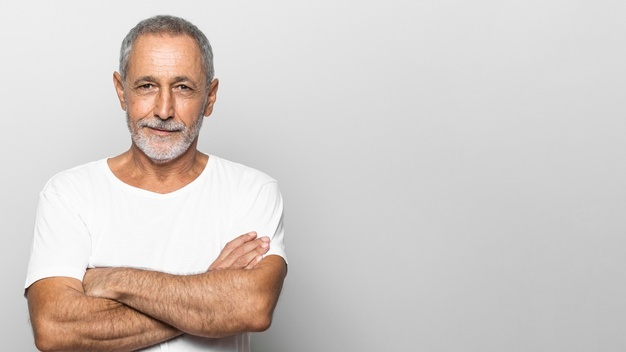Without Helmet: (106, 10, 222, 168)
